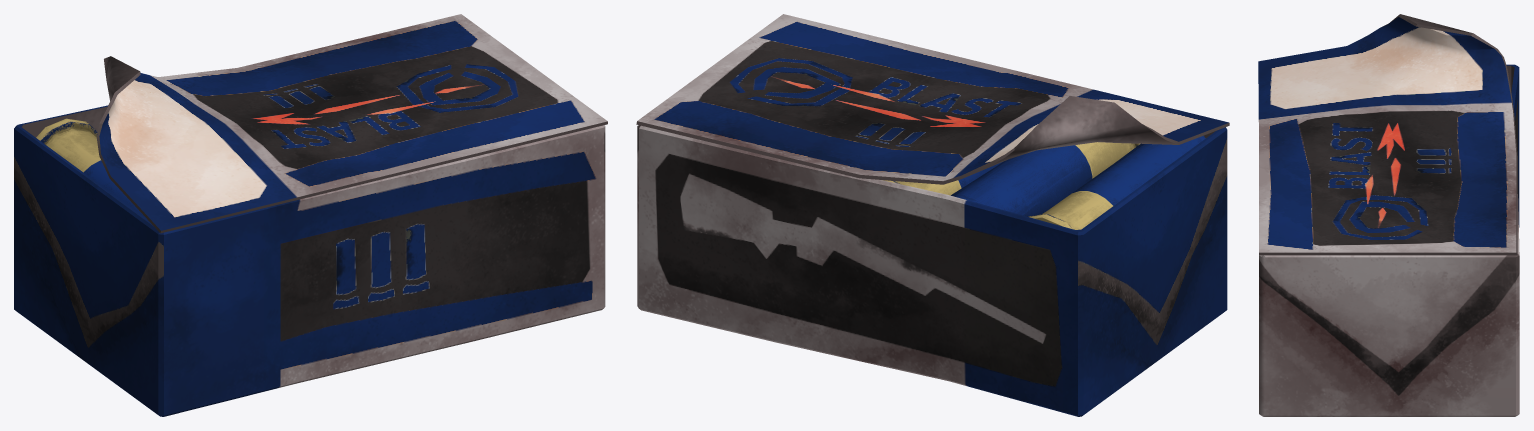
File: ShotgunSlugBox.glb
The picture shows the model from 3 angles, left to right: view 1: azimuth 30°, elevation 25°; view 2: azimuth 150°, elevation 25°; view 3: azimuth 270°, elevation 25°; orthographic projection. The views are drawn at different scales.
Visible parts, largest first — view 1: ShotgunSlugBox; view 2: ShotgunSlugBox; view 3: ShotgunSlugBox.
Part boxes in pixels (x1,y1,x2,y2): ShotgunSlugBox: (14, 14, 607, 416); ShotgunSlugBox: (636, 14, 1229, 416); ShotgunSlugBox: (1258, 14, 1519, 416).
Bounding box in the file's own units: 0.2459 × 0.1367 × 0.1394.
Materials: 2 (2 with a texture image).
